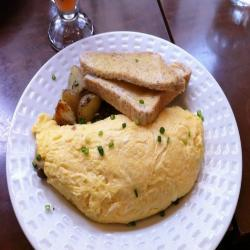bread: (71, 51, 195, 125)
omelette: (31, 102, 221, 225)
